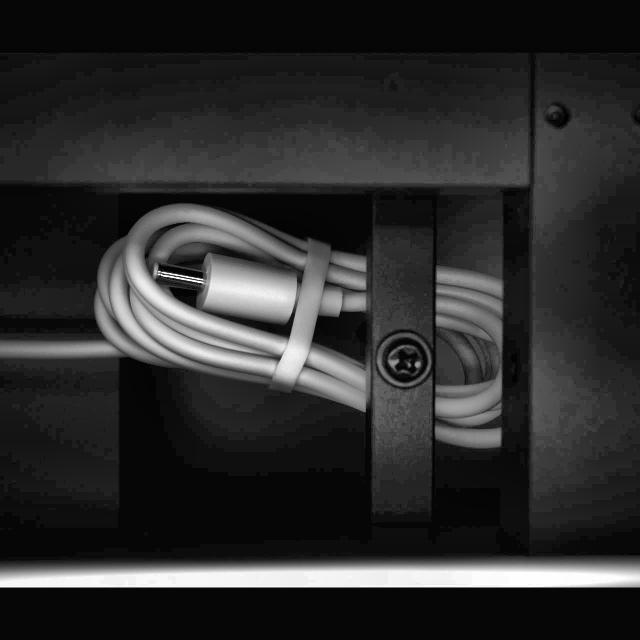Cable: (0, 199, 504, 464)
